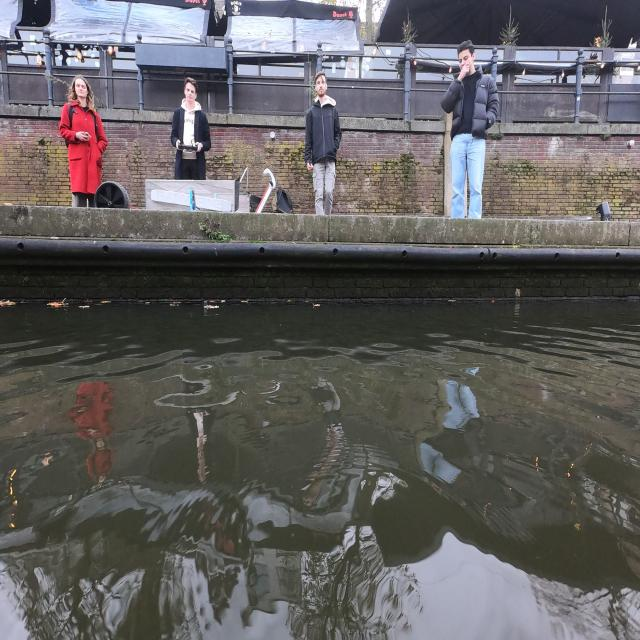wall: (0, 205, 640, 301)
water: (0, 301, 640, 640)
